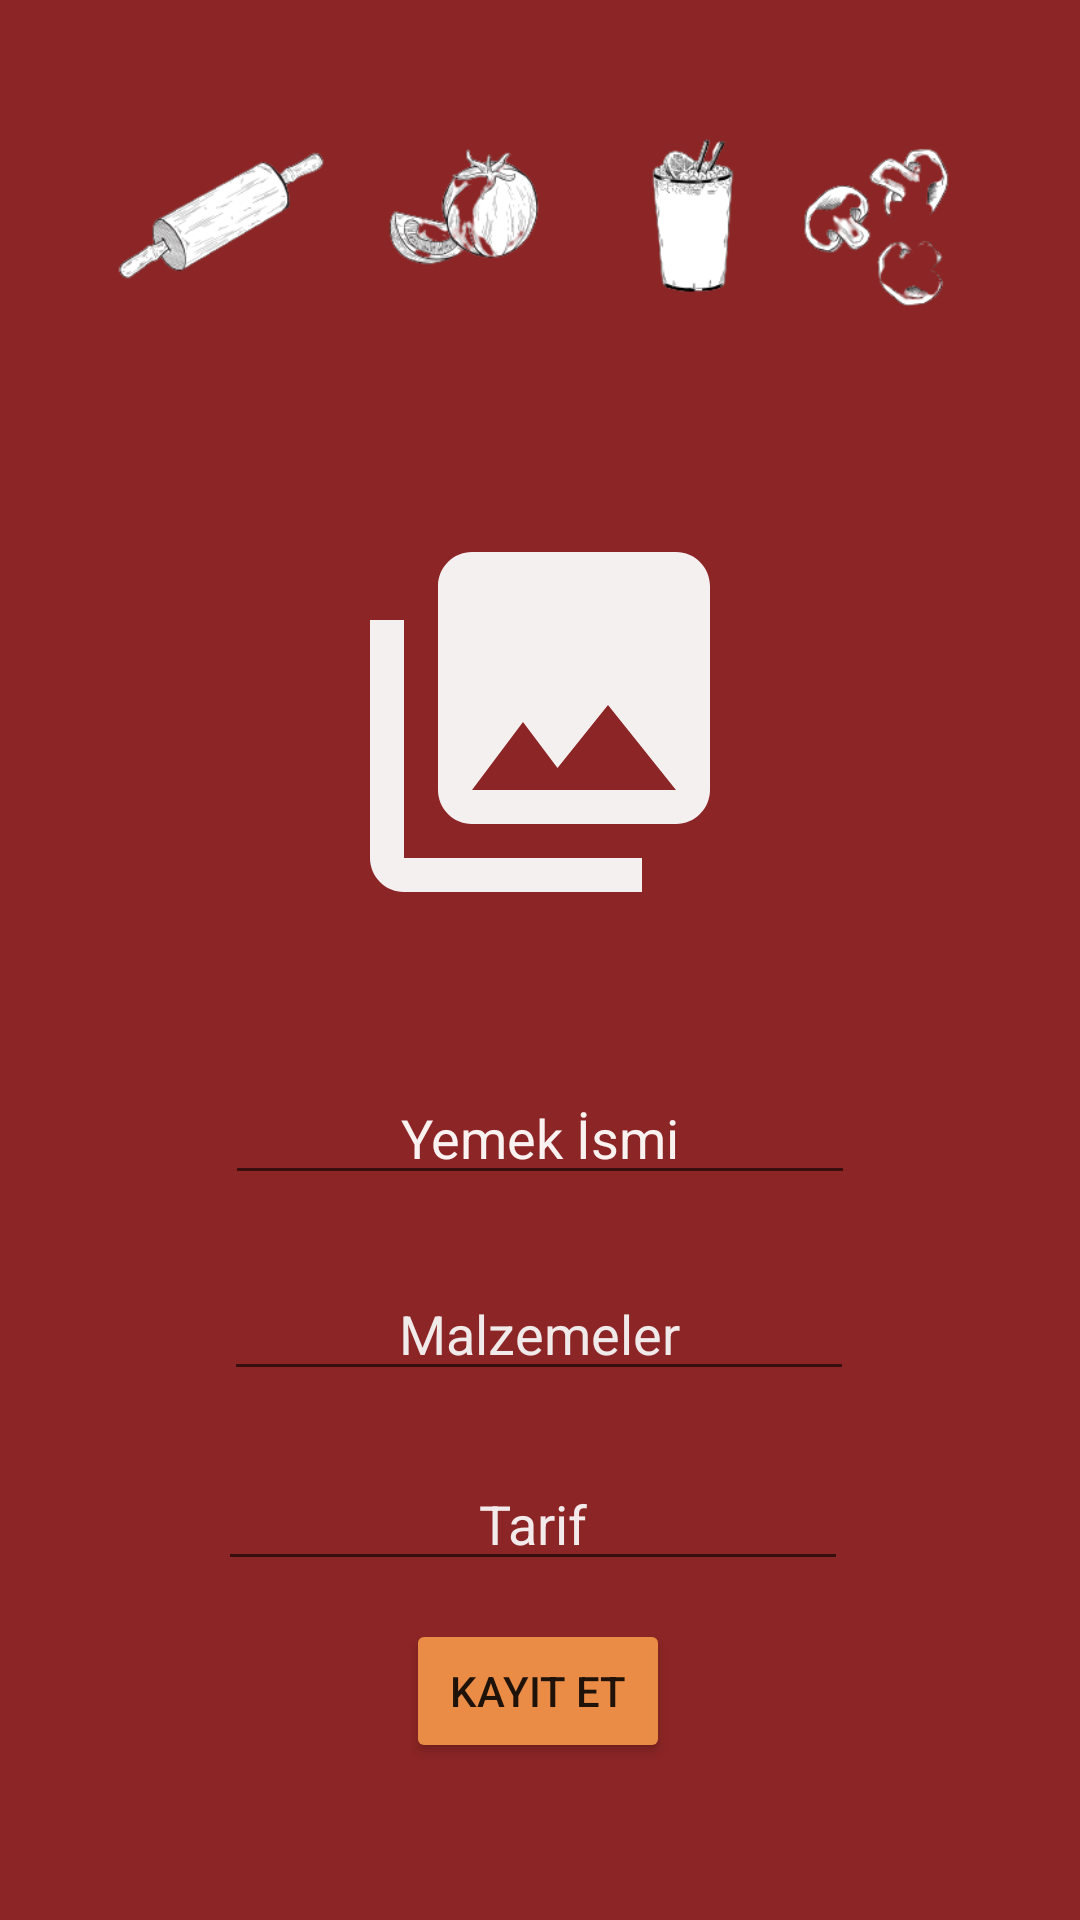

Icons on this 1080×1920 Android screen, each with the point to tap as [x,y]:
collections: [540,722]
